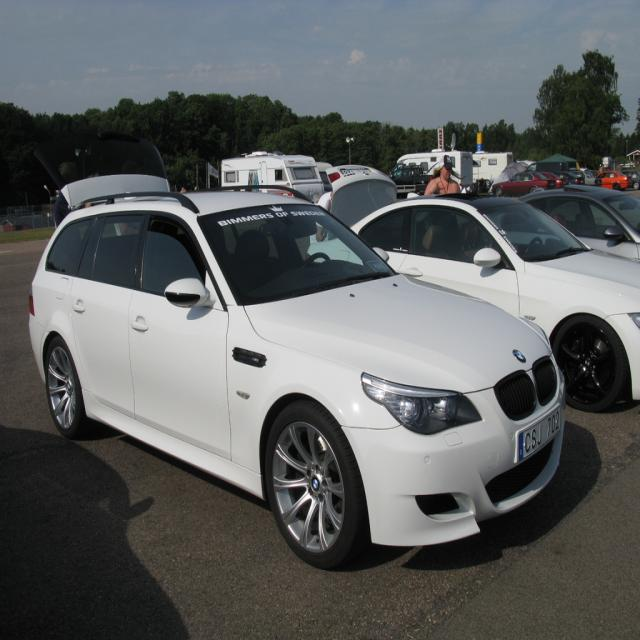car: (28, 141, 568, 569), (302, 192, 639, 413), (518, 186, 639, 267), (493, 166, 548, 196), (593, 157, 635, 181)
